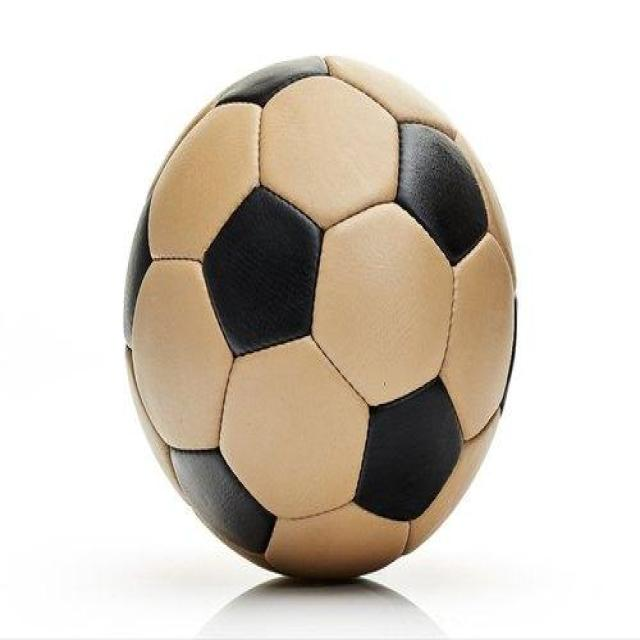Soccer Ball: (124, 55, 520, 578)
